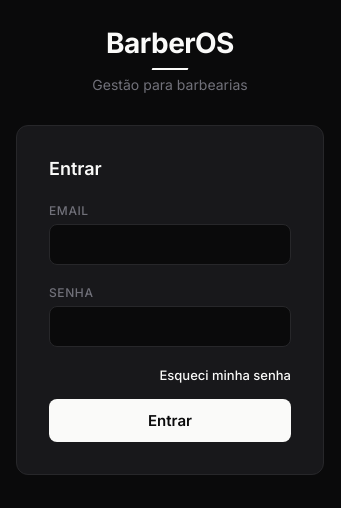
LoginCliente › exibe mensagem de erro quando o login falha
Type "cliente@teste.com" into the field labelled "Email" at (170, 244), box [49,224,291,264]
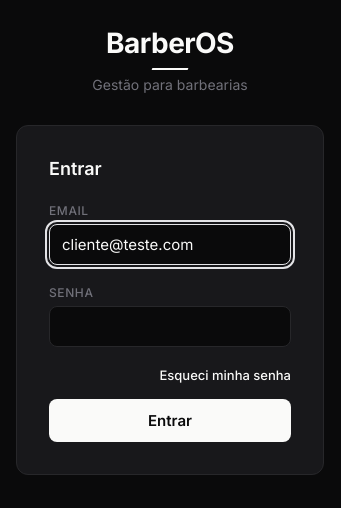
Type "senhaErrada" into the password field labelled "Senha" at (170, 326), box [49,306,291,346]
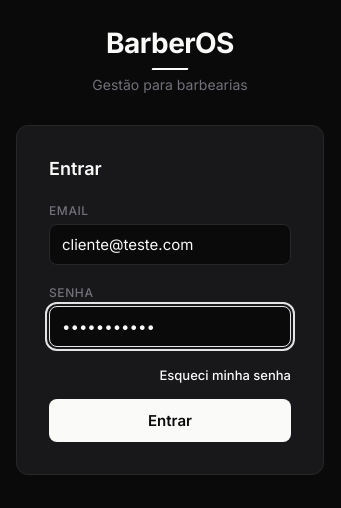
Click the button "Entrar" at (170, 420), box [49,398,291,442]
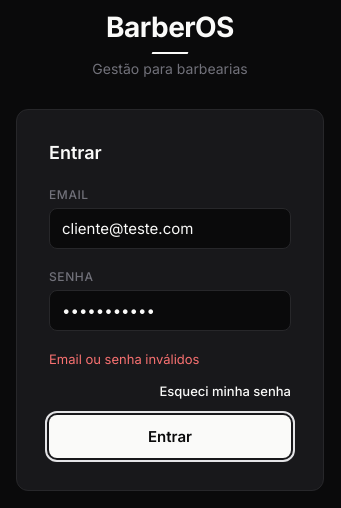
Result: the text "Email ou senha inválidos" is shown at [49,350,200,366]
